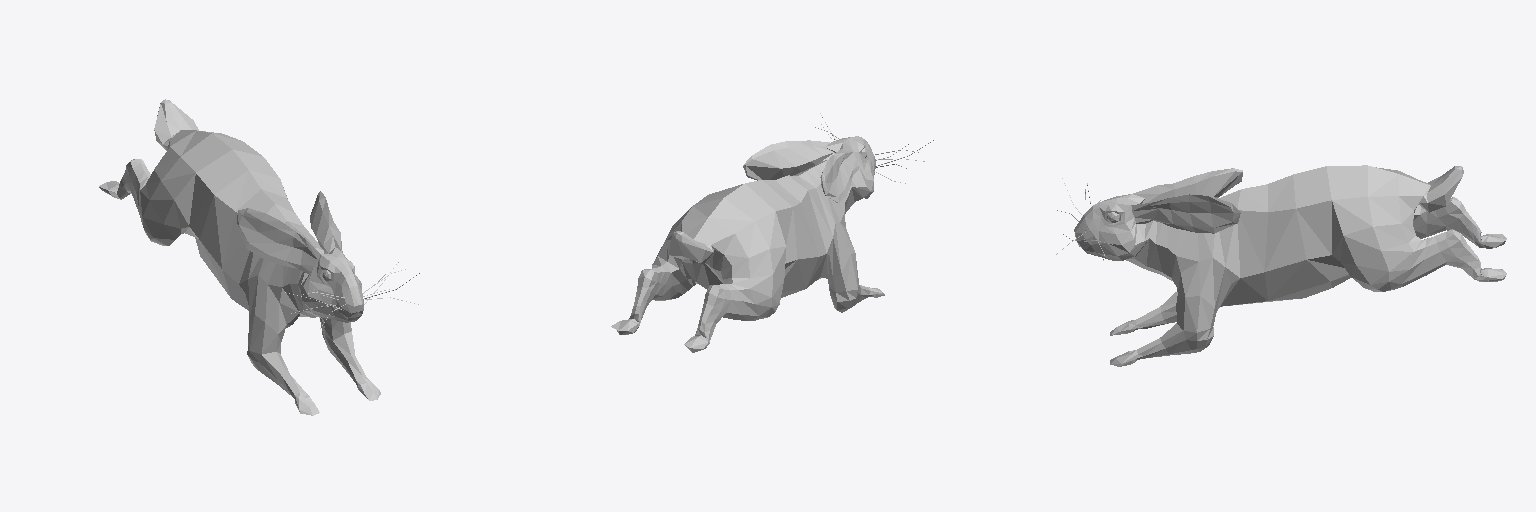
The model's file is rabbit_000009.obj.
3 views of the same model, side by side, from view 1: azimuth 30°, elevation 25°; view 2: azimuth 150°, elevation 25°; view 3: azimuth 270°, elevation 25° (orthographic).
Parts seen in each view (by area): view 1: Rabbit_Cylinder; view 2: Rabbit_Cylinder; view 3: Rabbit_Cylinder.
Boxes of the visible parts, box(x1,y1,x2,y2) form: Rabbit_Cylinder: box(99, 99, 419, 415); Rabbit_Cylinder: box(611, 113, 933, 352); Rabbit_Cylinder: box(1056, 165, 1506, 366).
Bounding box in the file's own units: 7.02 × 10.32 × 23.45.